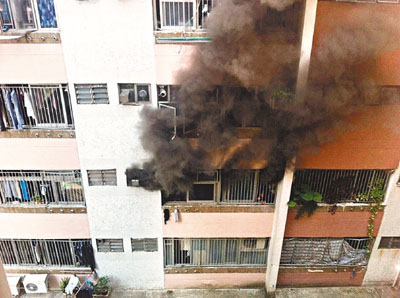smoke: (142, 8, 353, 186)
